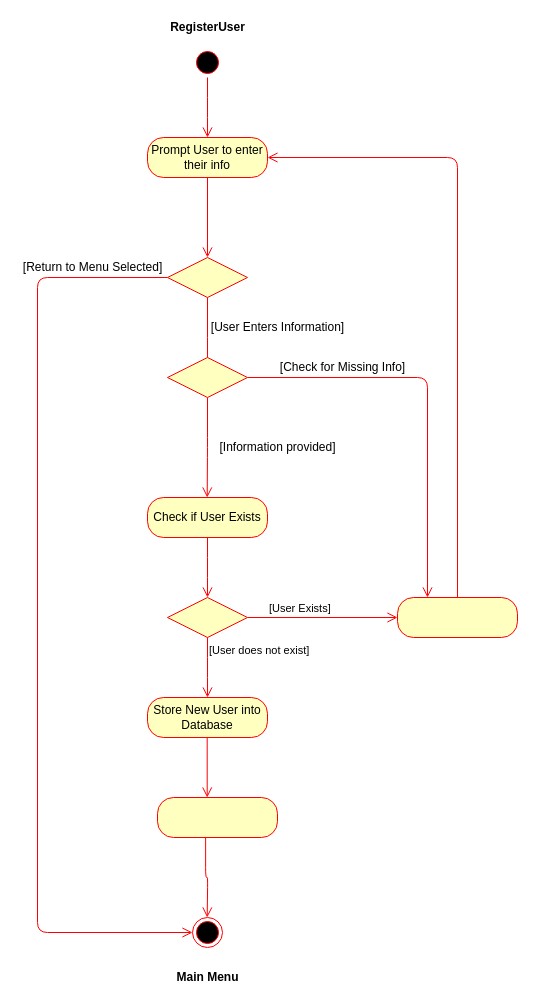
Image size: 535x1004. Some labels were removed from this diagram. The centre of each missing label's shape, as x and y in pixels:
"Flash Error Message" belongs at point 457,617.
"Flash Success Message" belongs at point 217,817.
